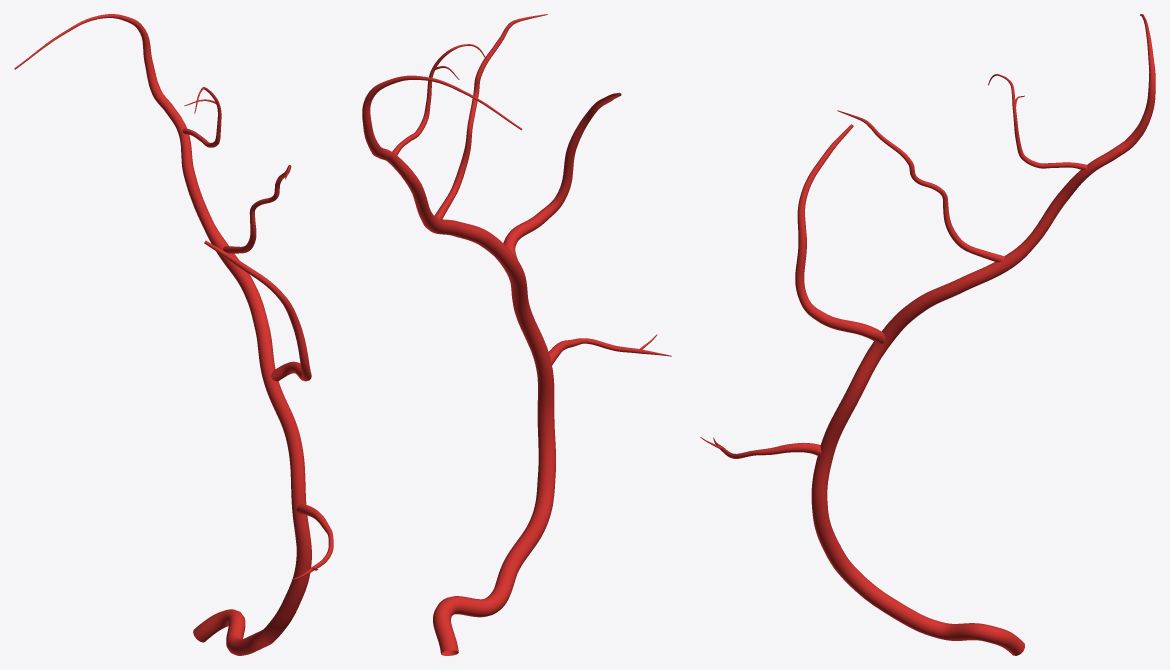
File: circulatorio-callosomarginal-artery-r.glb
3 renders of one model, left to right at view 1: azimuth 30°, elevation 25°; view 2: azimuth 150°, elevation 25°; view 3: azimuth 270°, elevation 25°, orthographic. The views are drawn at different scales.
Visible parts, largest first — view 1: Callosomarginal artery.r, Frontal branches of callosomarginal artery.r; view 2: Callosomarginal artery.r, Frontal branches of callosomarginal artery.r; view 3: Callosomarginal artery.r, Frontal branches of callosomarginal artery.r.
Part boxes in pixels (<box>): Callosomarginal artery.r: <box>14,14,333,655</box>; Frontal branches of callosomarginal artery.r: <box>204,240,311,381</box>; Callosomarginal artery.r: <box>362,14,671,655</box>; Frontal branches of callosomarginal artery.r: <box>503,92,621,259</box>; Callosomarginal artery.r: <box>700,14,1155,655</box>; Frontal branches of callosomarginal artery.r: <box>795,124,885,343</box>.
Bounding box in the file's own units: 0.0214 × 0.0779 × 0.053.
